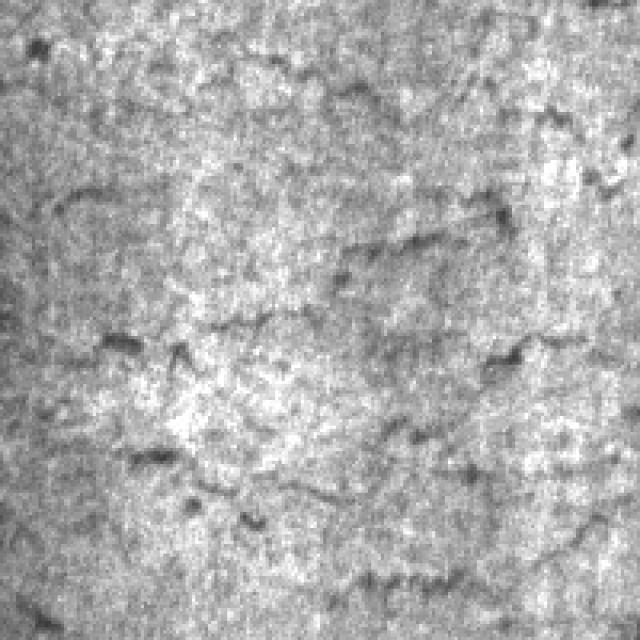crazing: (112, 16, 621, 282), (0, 179, 611, 387), (22, 403, 630, 611)
